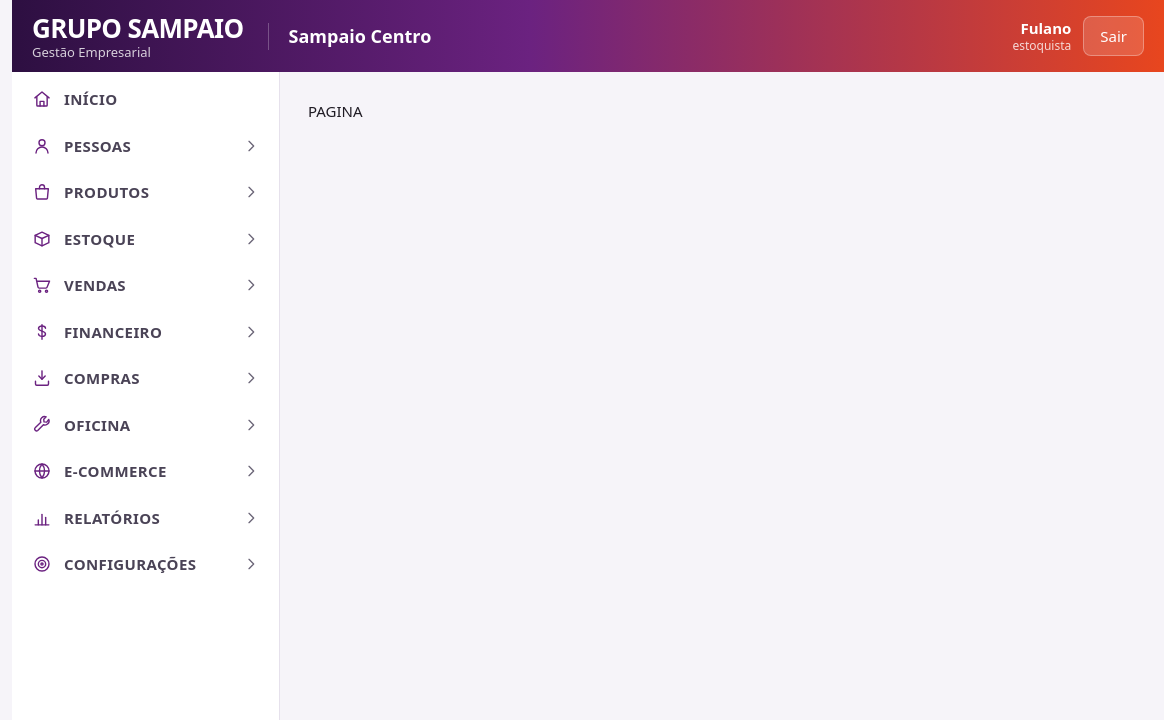
Scenario: o filtro novo não levou nada junto › o estoquista continua vendo o resto de Configurações
What coordinates should you click on to do the following:
click the button "Configurações"
I would click on:
 (146, 564)
Its box is left=12, top=541, right=279, bottom=588.
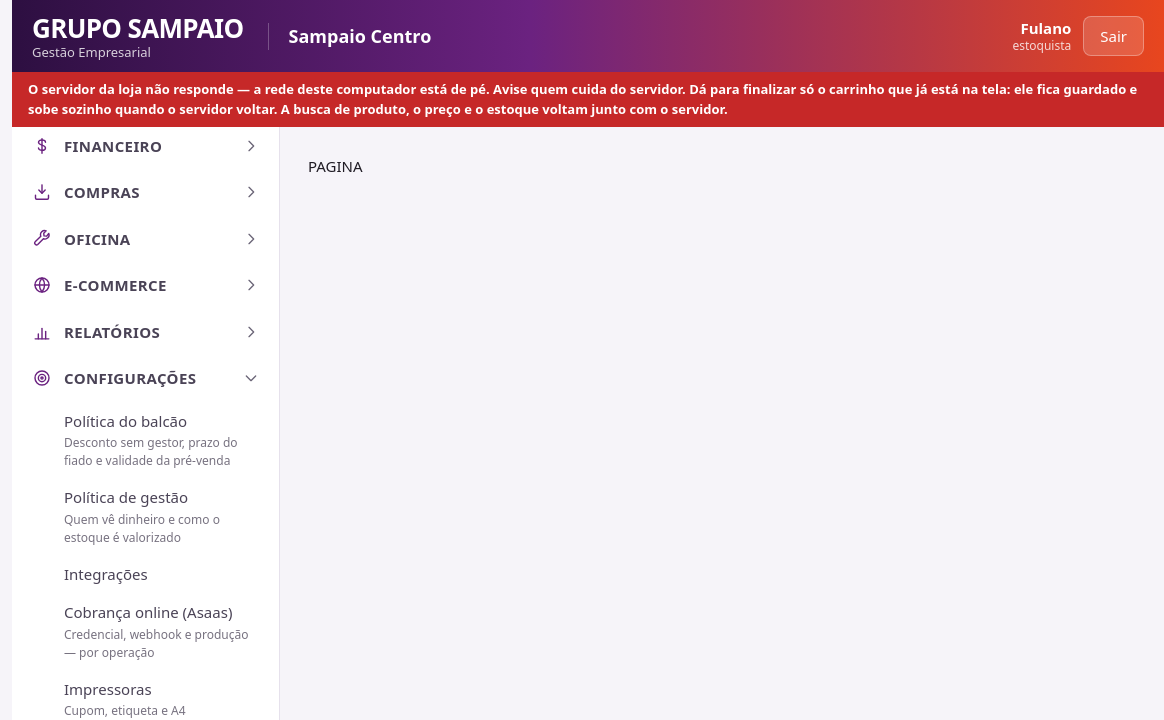
Check: the text "Impressoras" is shown, box left=64, top=678, right=152, bottom=698
Check: the text "Política do balcão" is shown, box left=64, top=410, right=187, bottom=430
Check: the text "Integrações" is shown, box left=64, top=564, right=148, bottom=584
